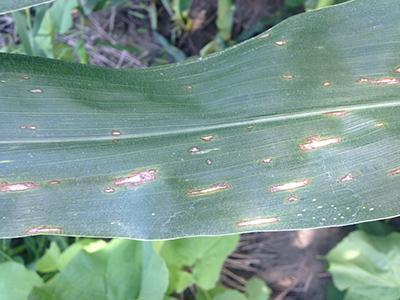Corn_Blight: (95, 161, 185, 205), (272, 69, 399, 97), (273, 121, 352, 155), (2, 173, 77, 203), (11, 72, 73, 104), (265, 170, 317, 208), (186, 132, 227, 177), (250, 23, 303, 49), (236, 217, 296, 238), (29, 220, 88, 240), (193, 185, 246, 201), (102, 121, 135, 144), (339, 163, 368, 188), (13, 119, 51, 138), (314, 106, 353, 117), (187, 80, 204, 96), (388, 162, 400, 184)
